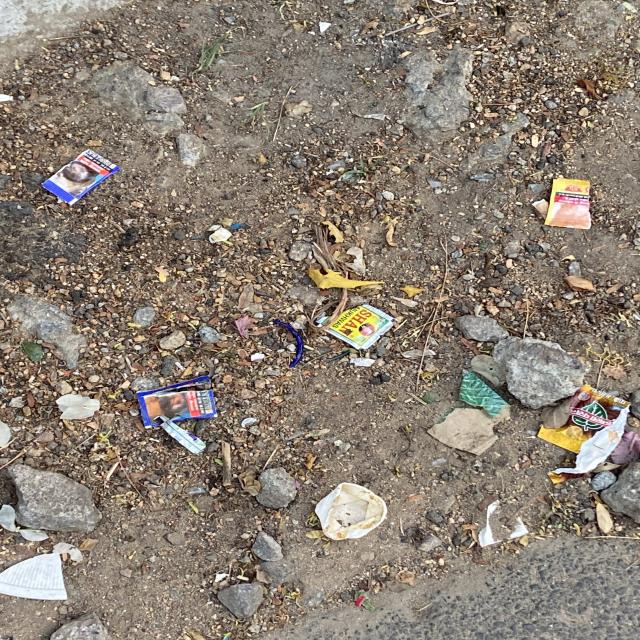giay_goi: (539, 385, 630, 481), (41, 149, 119, 205), (135, 376, 217, 429), (326, 305, 394, 350), (545, 178, 592, 229)
